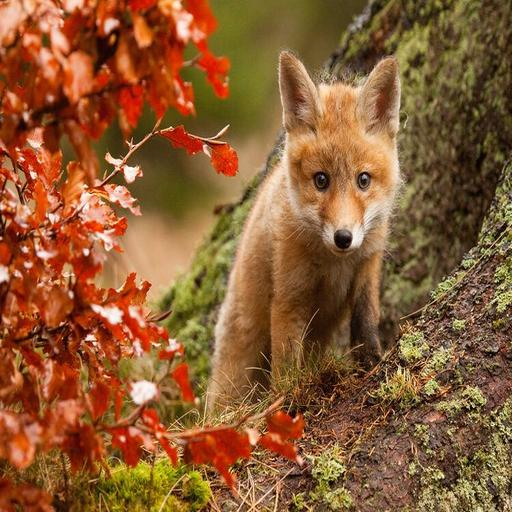Fox: (196, 48, 409, 432)
